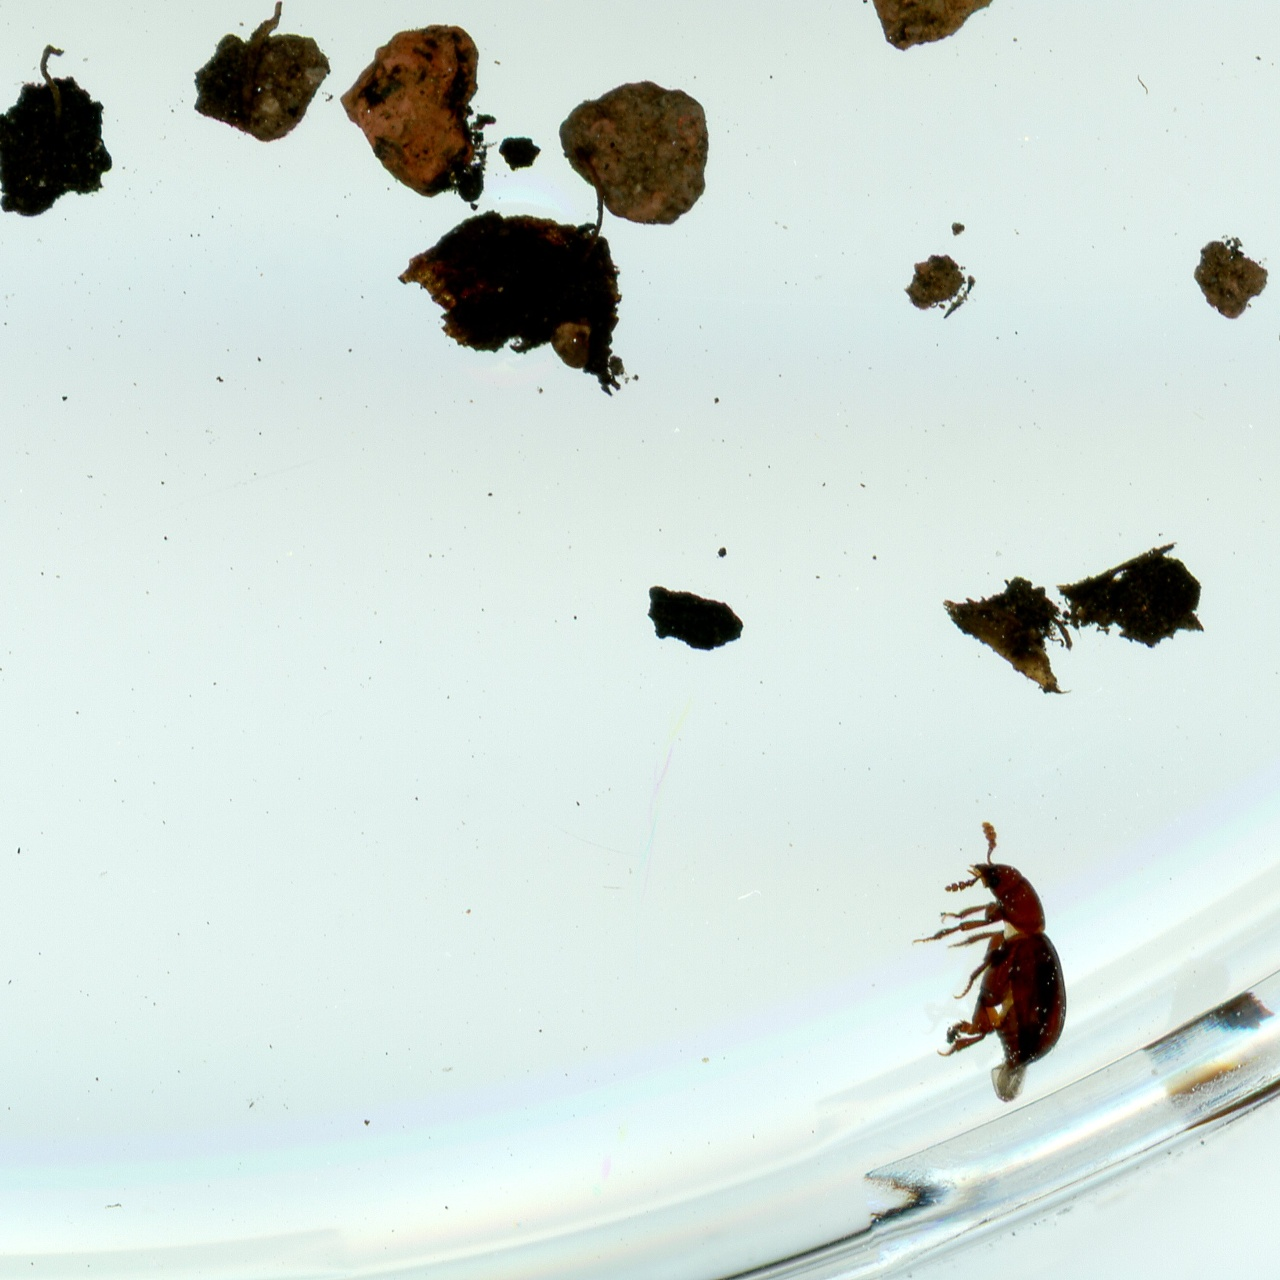arthropod: (905, 815, 1069, 1078)
